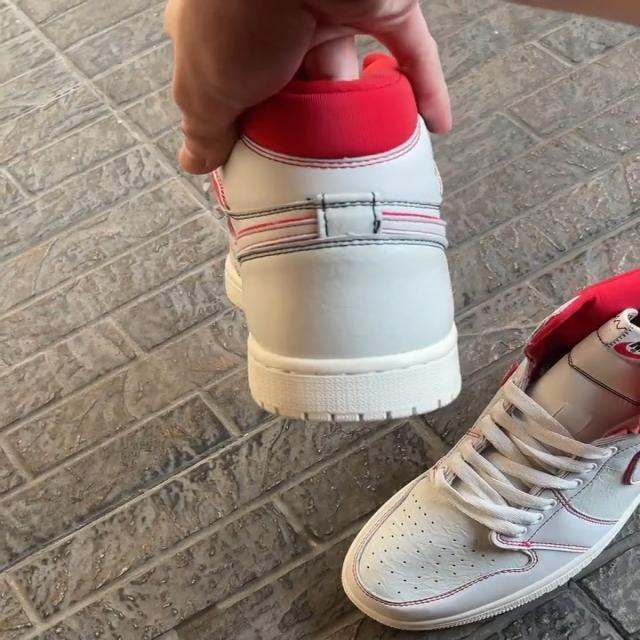nike fake jordan 1: (339, 264, 640, 628), (207, 21, 462, 430)
